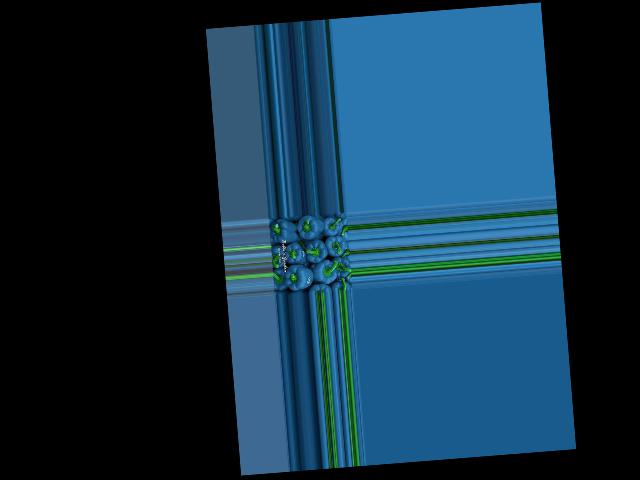bell_pepper: (272, 266, 290, 294)
